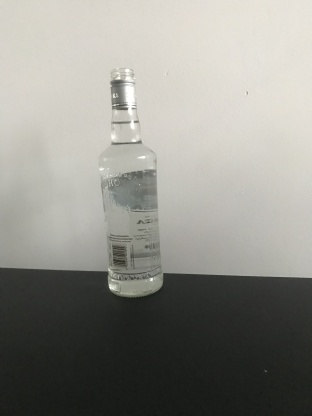nakretka: (108, 64, 138, 110)
